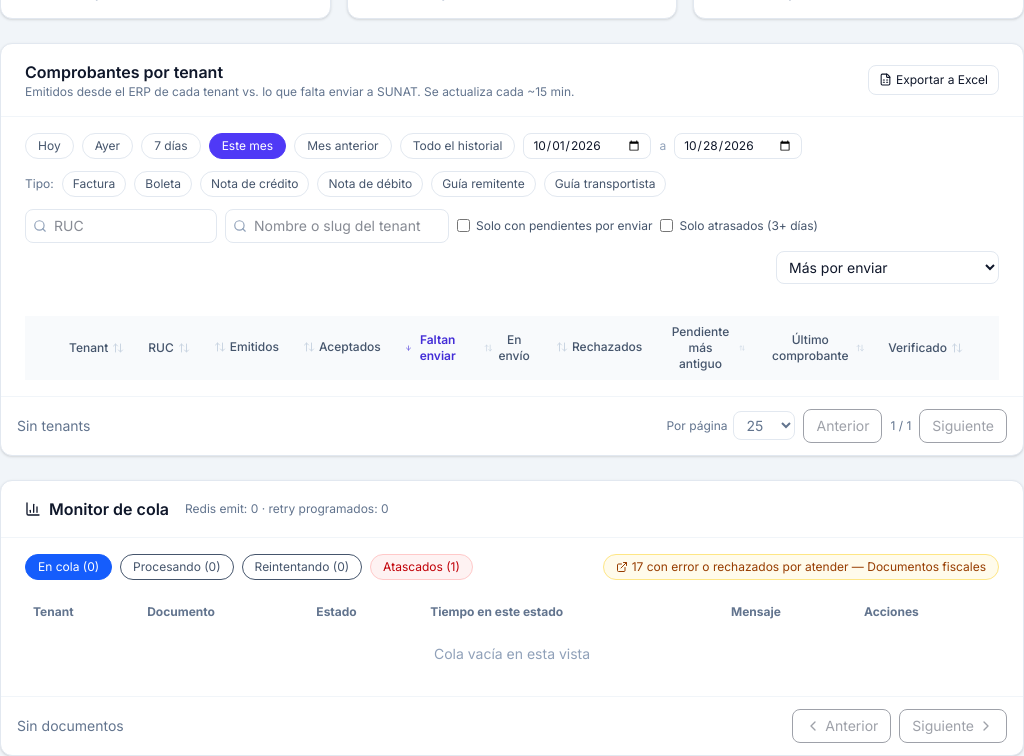
it: OperacionesFiscalesPage — Fase 4 › Matriz C: transient agotado (retryable=false) SIGUE presentando "Reprocesar" (retry manual permitido) y nunca dice "imposible"
The width and height of the screenshot is (1024, 756).
(page scrolled)
Expected: the text "Monitor de cola" is shown, 49,496 -> 169,520
Step 1. Click the button "Atascados (1)" → (422, 566), box 370,554 -> 473,580
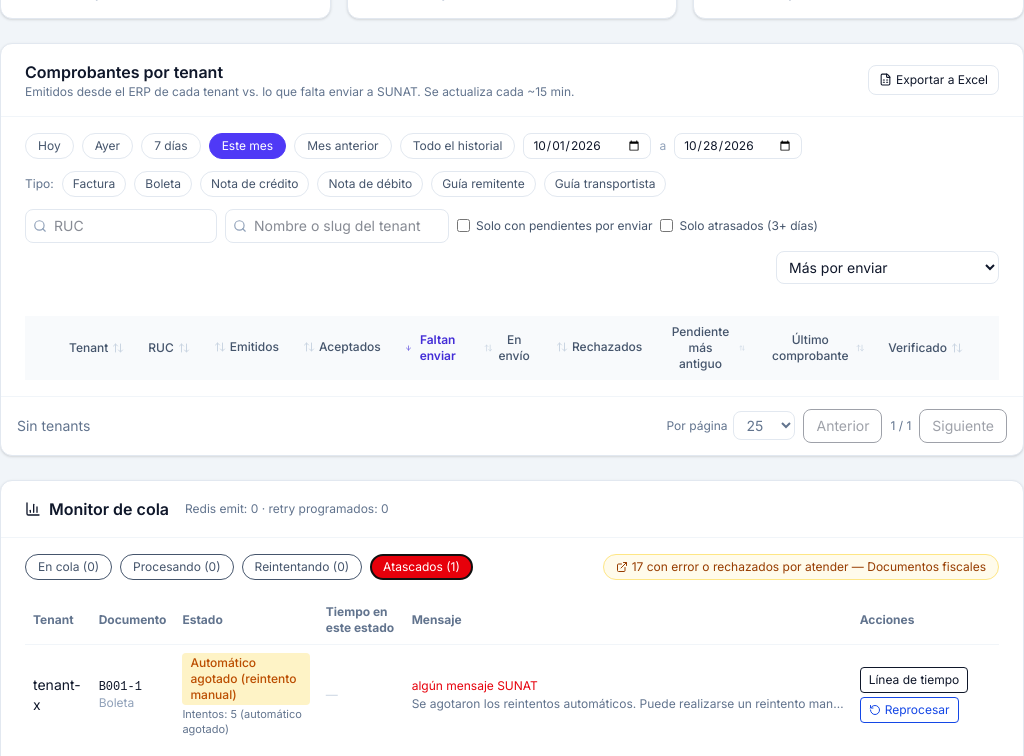
Result: the text "tenant-x" is shown at 25,644 -> 91,746
Result: the button "Reprocesar" is shown at 860,697 -> 959,723
Result: the text "Automático agotado (reintento manual)" is shown at 182,652 -> 310,704
